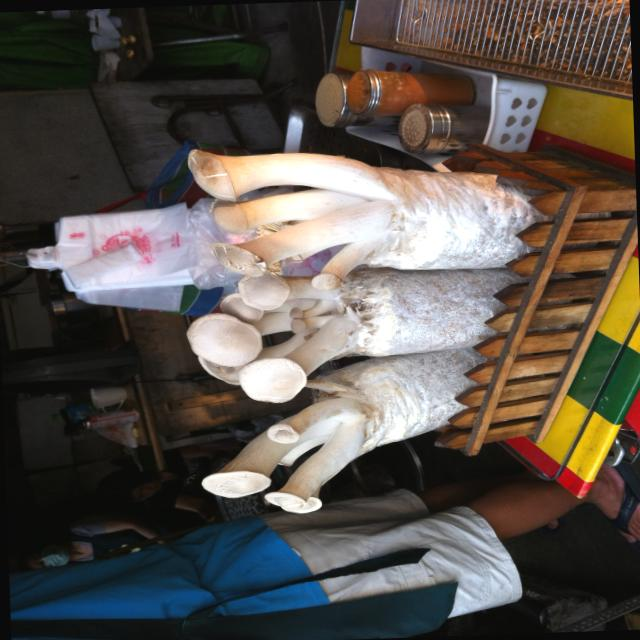Pleurotus eryngii: (188, 142, 411, 298), (180, 274, 370, 404), (195, 394, 376, 514)
